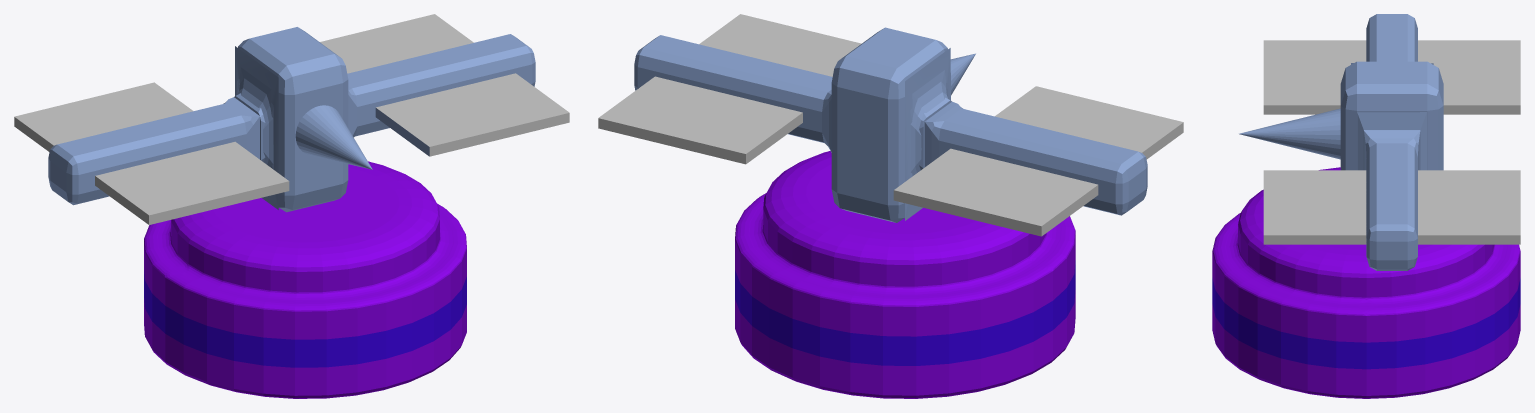
The model's file is Satellite.fbx.
3 renders of one model, left to right at view 1: azimuth 30°, elevation 25°; view 2: azimuth 150°, elevation 25°; view 3: azimuth 270°, elevation 25°, orthographic. The views are drawn at different scales.
Parts seen in each view (by area): view 1: Cube, Cylinder; view 2: Cube, Cylinder; view 3: Cube, Cylinder.
Part boxes in pixels (x1=…): Cube: x1=14, y1=14, x2=569, y2=224; Cylinder: x1=144, y1=161, x2=466, y2=398; Cube: x1=598, y1=14, x2=1183, y2=236; Cylinder: x1=735, y1=151, x2=1075, y2=398; Cube: x1=1239, y1=14, x2=1520, y2=270; Cylinder: x1=1212, y1=167, x2=1520, y2=398.
Size of the model in its own units: 2000 by 1150 by 1200.
